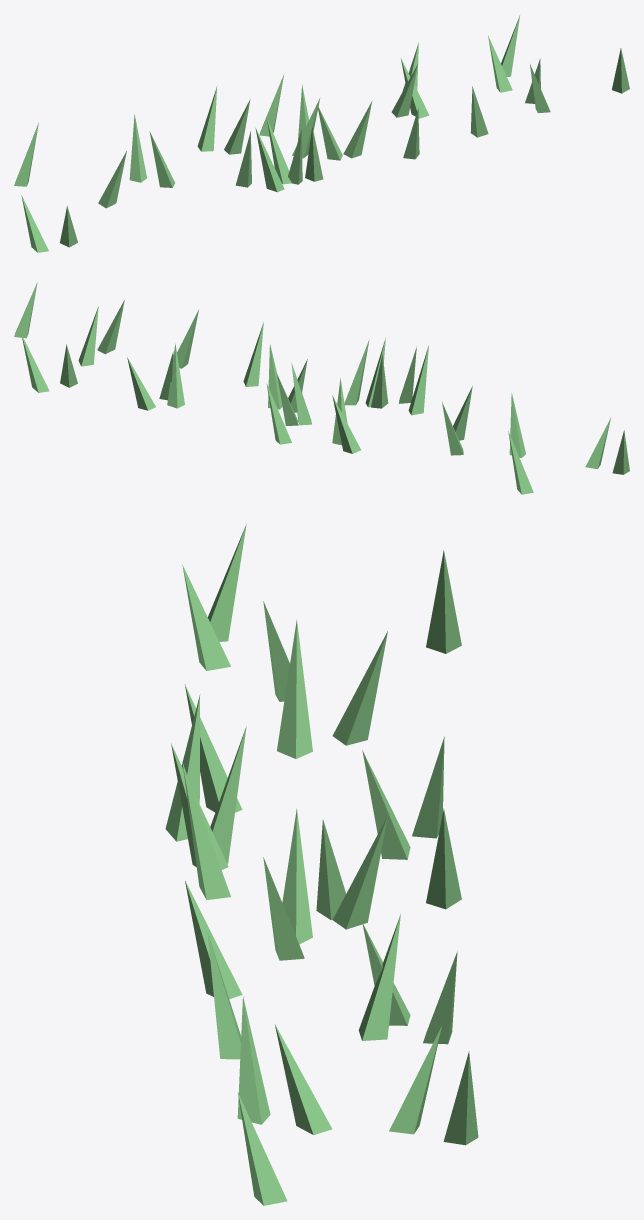
File: grass.fbx
3 renders of one model, top to bottom at view 1: azimuth 30°, elevation 25°; view 2: azimuth 150°, elevation 25°; view 3: azimuth 270°, elevation 25°, orthographic. The views are drawn at different scales.
Parts seen in each view (by area): view 1: polySurface32; view 2: polySurface32; view 3: polySurface32.
Boxes of the visible parts, x1,y1,x2,y2 form: polySurface32: [14, 15, 629, 252]; polySurface32: [14, 282, 629, 494]; polySurface32: [165, 524, 478, 1205].
Bounding box in the file's own units: 343 × 40.67 × 76.85.
